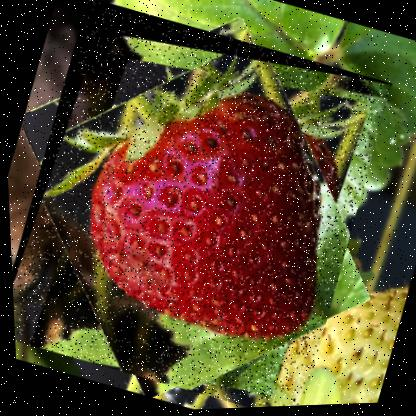strawberry: (0, 0, 403, 415)
